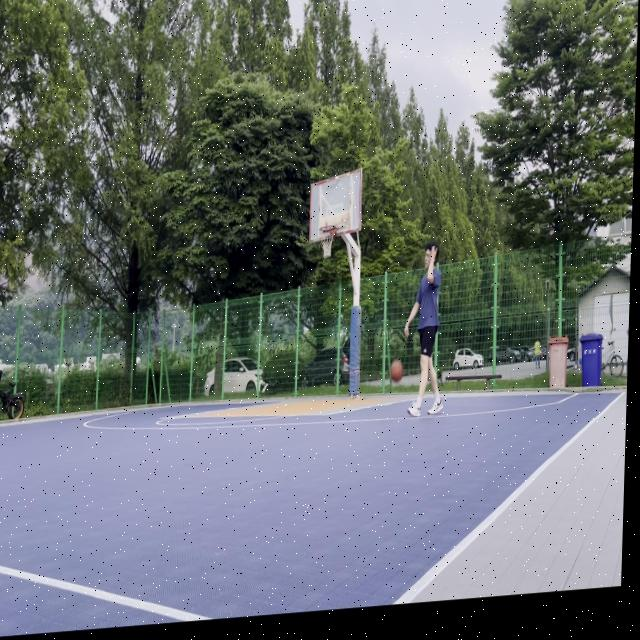basketball: (390, 358, 404, 384)
hoop: (318, 224, 336, 261)
